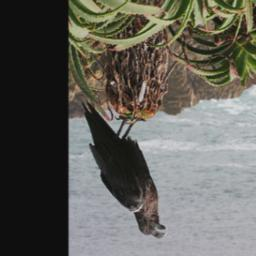Crow: (78, 98, 170, 240)
